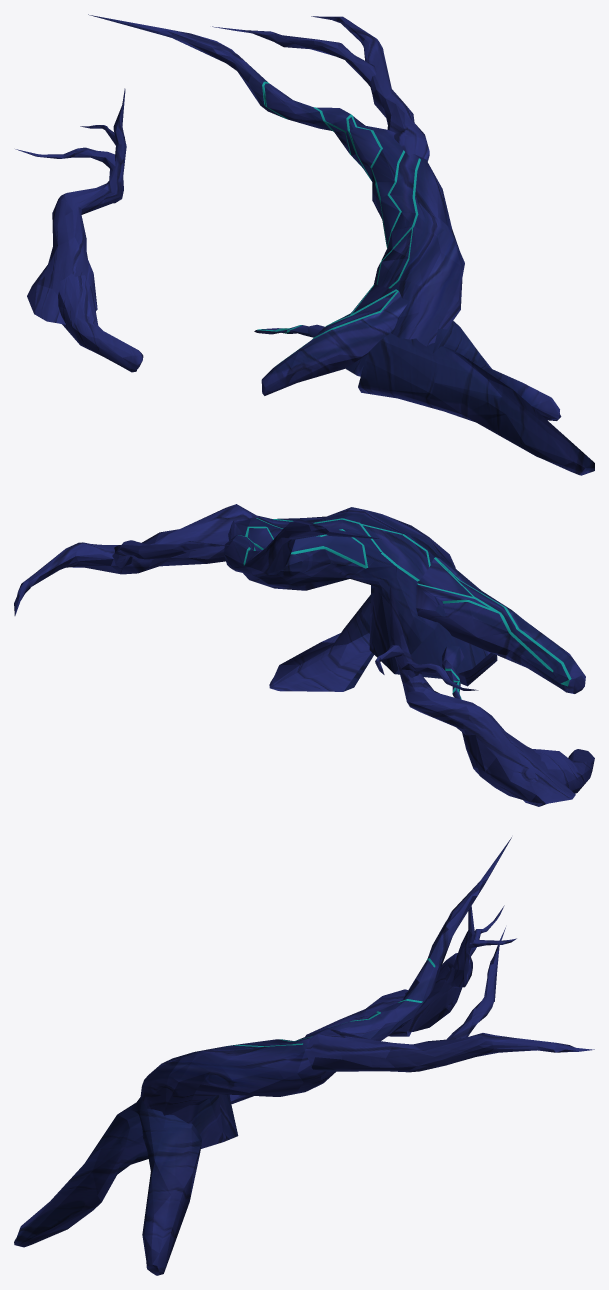
File: Gaint_tree.fbx
3 renders of one model, top to bottom at view 1: azimuth 30°, elevation 25°; view 2: azimuth 150°, elevation 25°; view 3: azimuth 270°, elevation 25°, orthographic. The views are drawn at different scales.
Visible parts, largest first — view 1: Gaint_tree; view 2: Gaint_tree; view 3: Gaint_tree.
Part boxes in pixels (x1,y1,x2,y2): Gaint_tree: (15, 14, 594, 475); Gaint_tree: (14, 504, 594, 806); Gaint_tree: (14, 837, 594, 1275).
Size of the model in its own units: 11666 by 16036 by 9496.
Materials: 2 (1 with a texture image).
